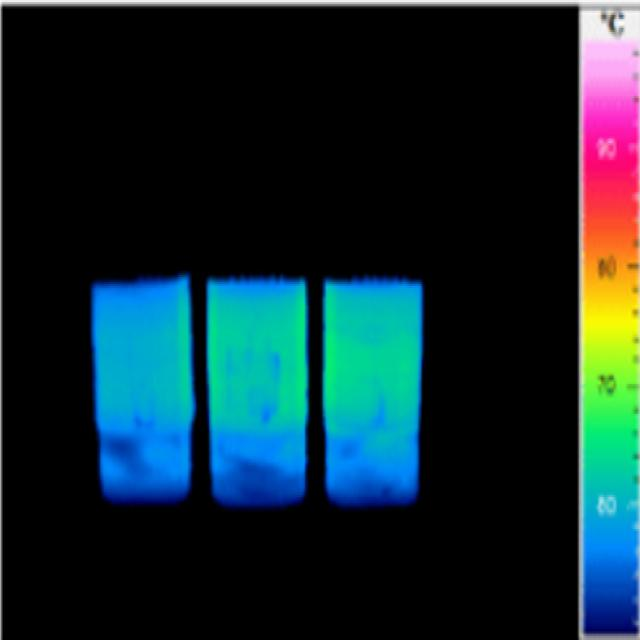Transformer: (92, 273, 422, 514)
